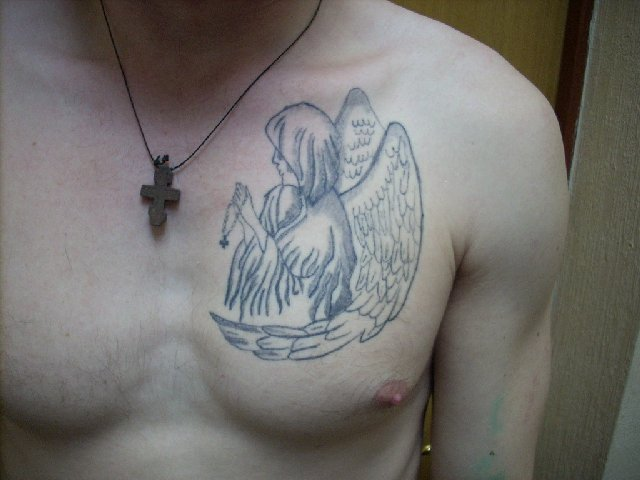tatu1_angel: (204, 83, 425, 364)
